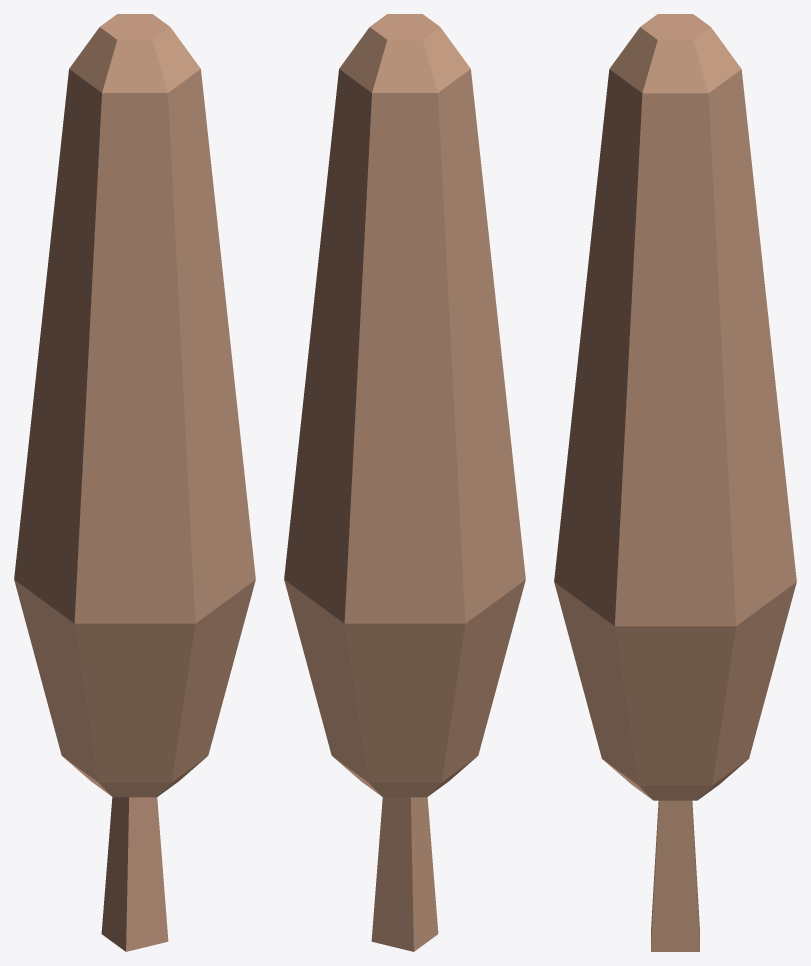
Rendered from naturePack_149.fbx.
The picture shows the model from 3 angles, left to right: view 1: azimuth 30°, elevation 25°; view 2: azimuth 150°, elevation 25°; view 3: azimuth 270°, elevation 25°; orthographic projection.
Visible parts, largest first — view 1: naturePack_149; view 2: naturePack_149; view 3: naturePack_149.
Part boxes in pixels (x1=…): naturePack_149: x1=14, y1=14, x2=255, y2=951; naturePack_149: x1=284, y1=14, x2=525, y2=951; naturePack_149: x1=554, y1=14, x2=796, y2=951.
Bounding box in the file's own units: 172 × 825 × 198.
